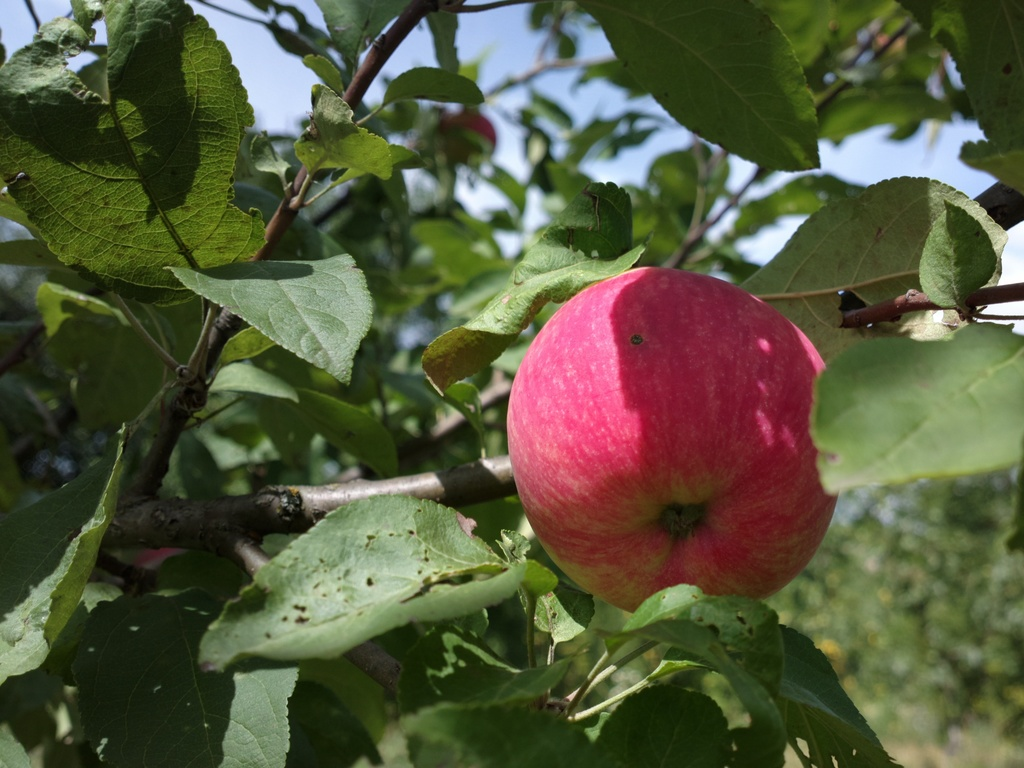Apple: (507, 255, 833, 615)
